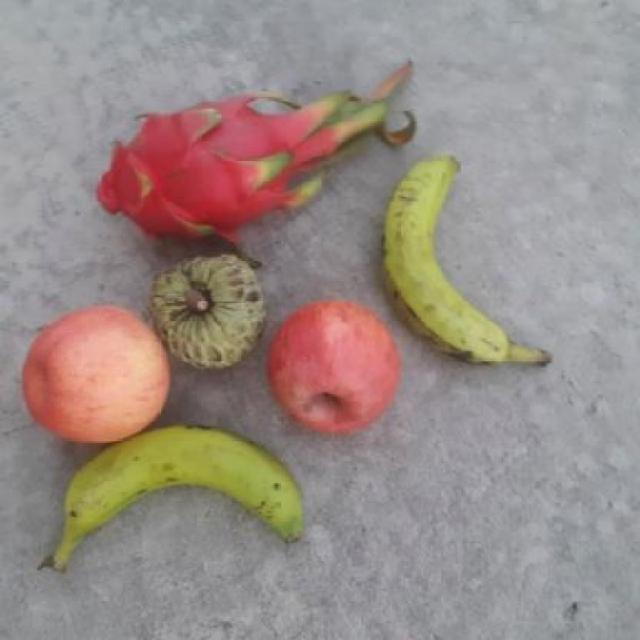apple: (18, 303, 168, 440), (261, 295, 397, 433)
banana: (378, 148, 560, 364), (58, 420, 317, 568)
dragon fruit: (91, 91, 312, 246)
sugar apple: (144, 247, 261, 370)
